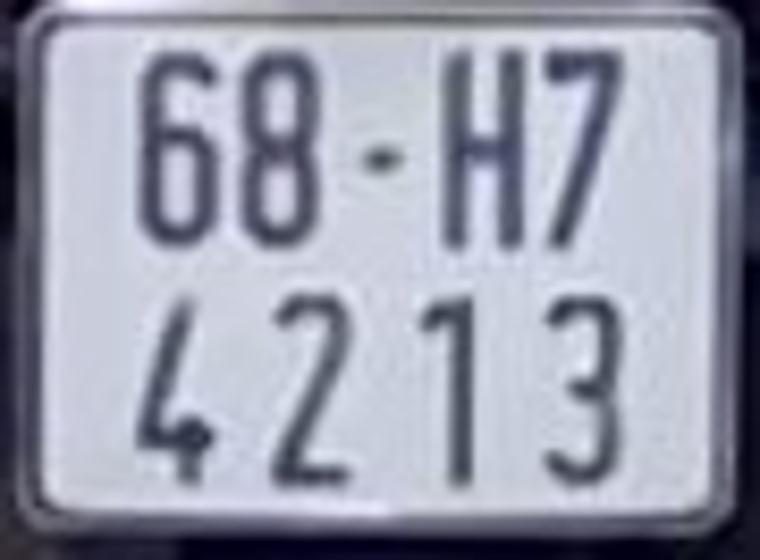-: (359, 146, 396, 167)
1: (419, 298, 475, 491)
2: (271, 294, 349, 485)
3: (540, 295, 619, 486)
4: (134, 301, 215, 487)
6: (136, 51, 214, 244)
7: (544, 48, 625, 251)
8: (241, 51, 316, 247)
H: (438, 47, 525, 248)
